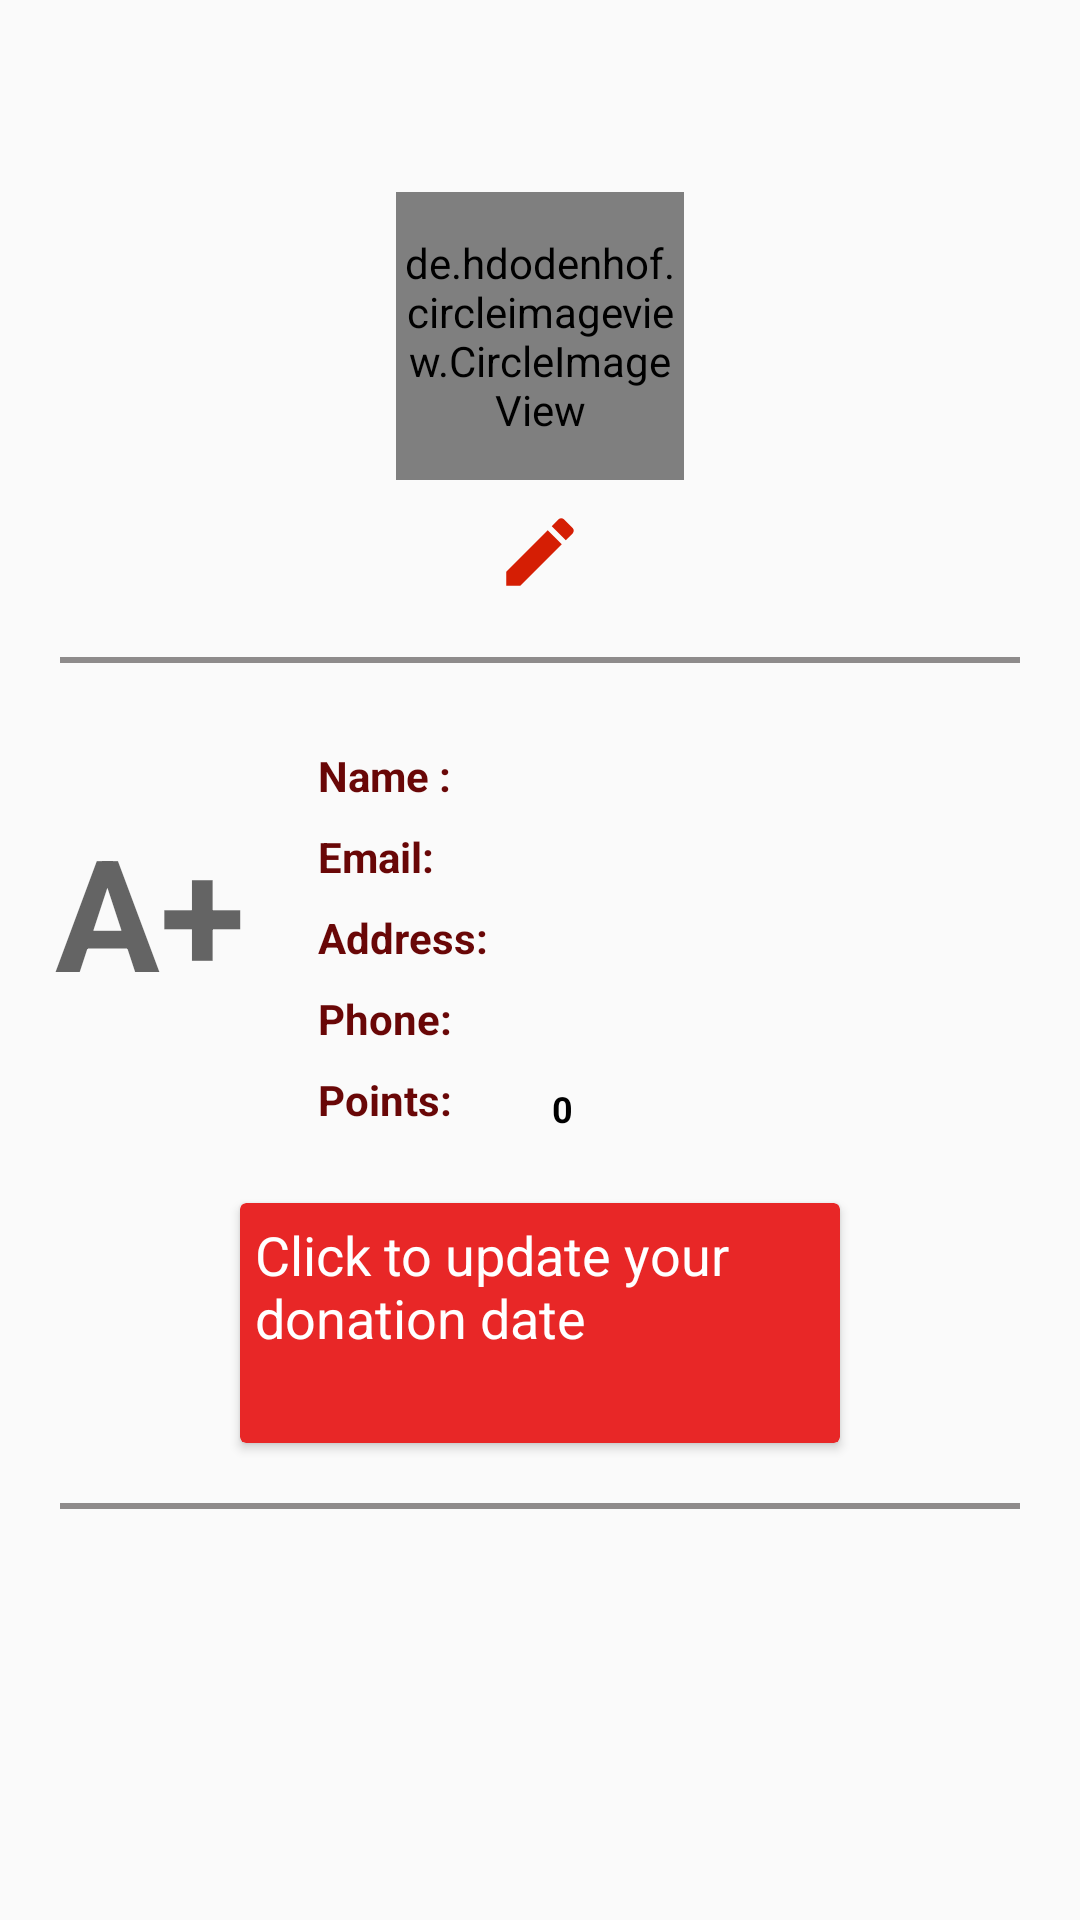

Where to tap for icons on this 1080 × 1920 app screen, as (x=x, y=y):
edit: (x=540, y=552)
